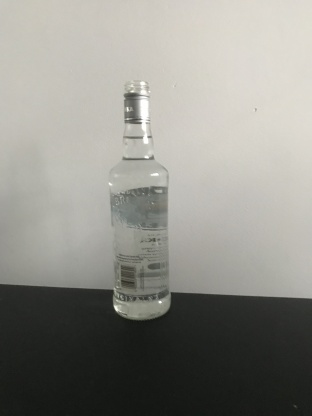nakretka: (121, 78, 152, 124)
